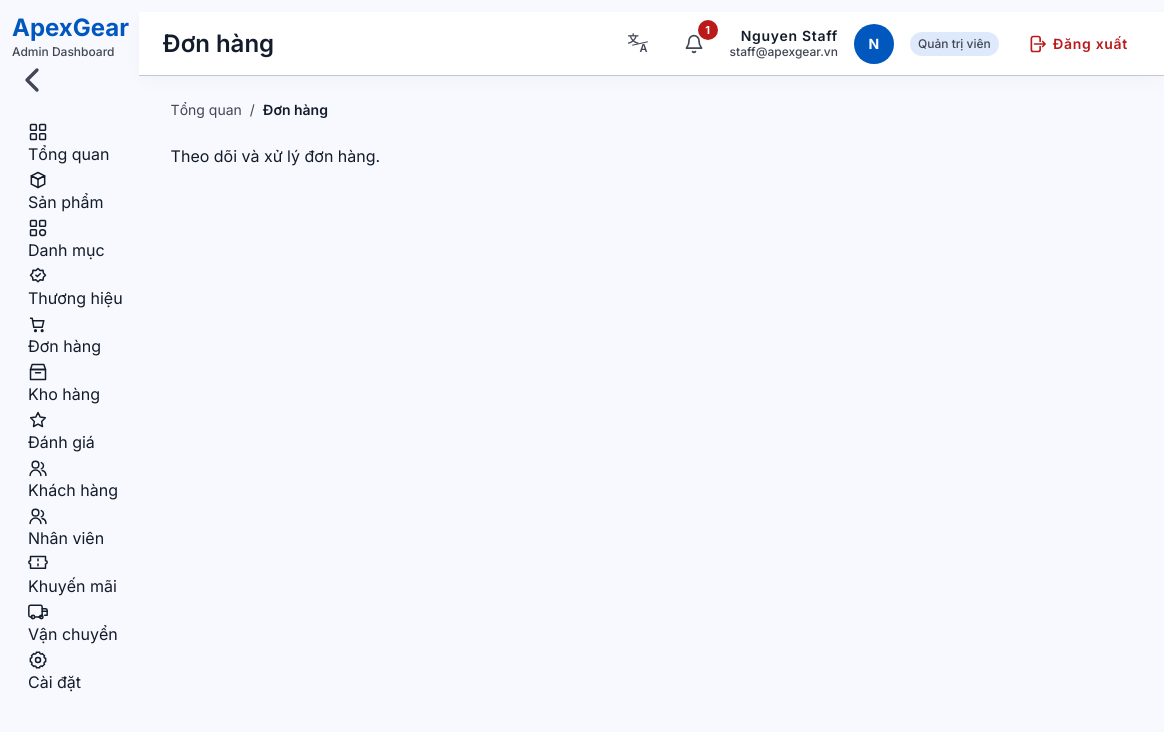
Scenario: AdminLayout › opens the language menu by click and switches languages through i18n
The image size is (1164, 732).
Click the button named "Mở trình chọn ngôn ngữ" at (638, 44), box [618,24,658,64]
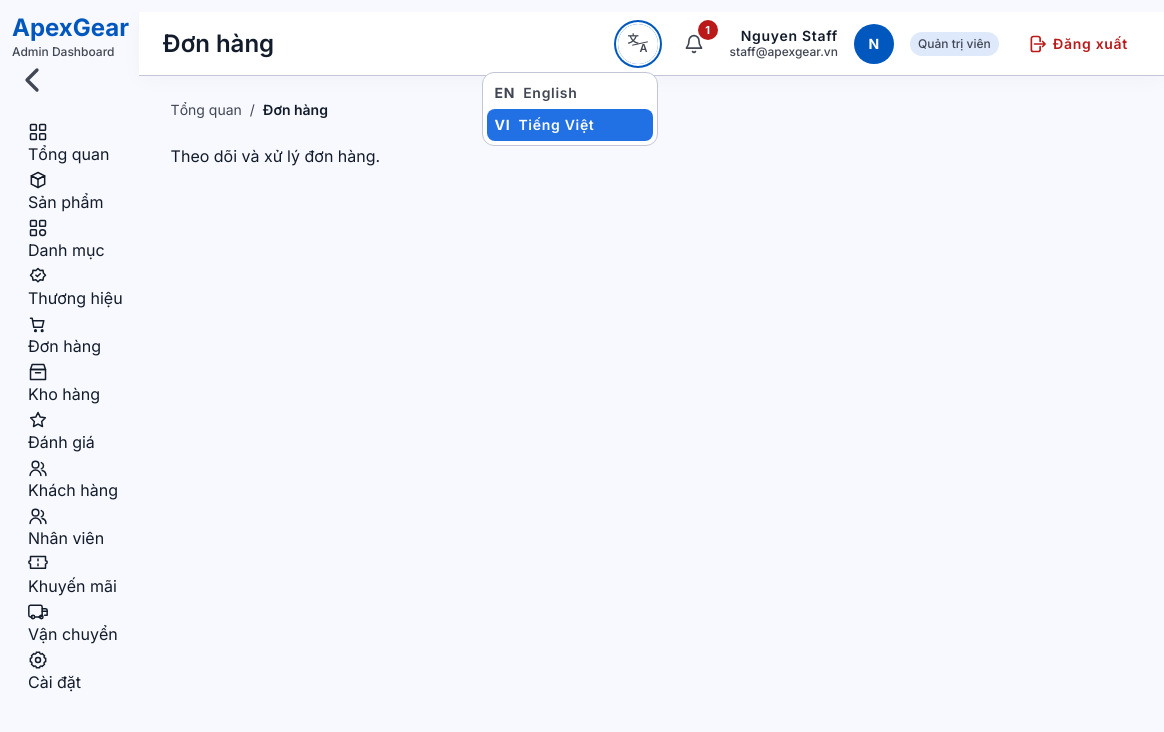
Expected: the menu item "EN English" is shown
Expected: the menu item "VI Tiếng Việt" is shown, [487,108,653,140]
Click the menu item "EN English" at (570, 92), box [487,76,653,108]
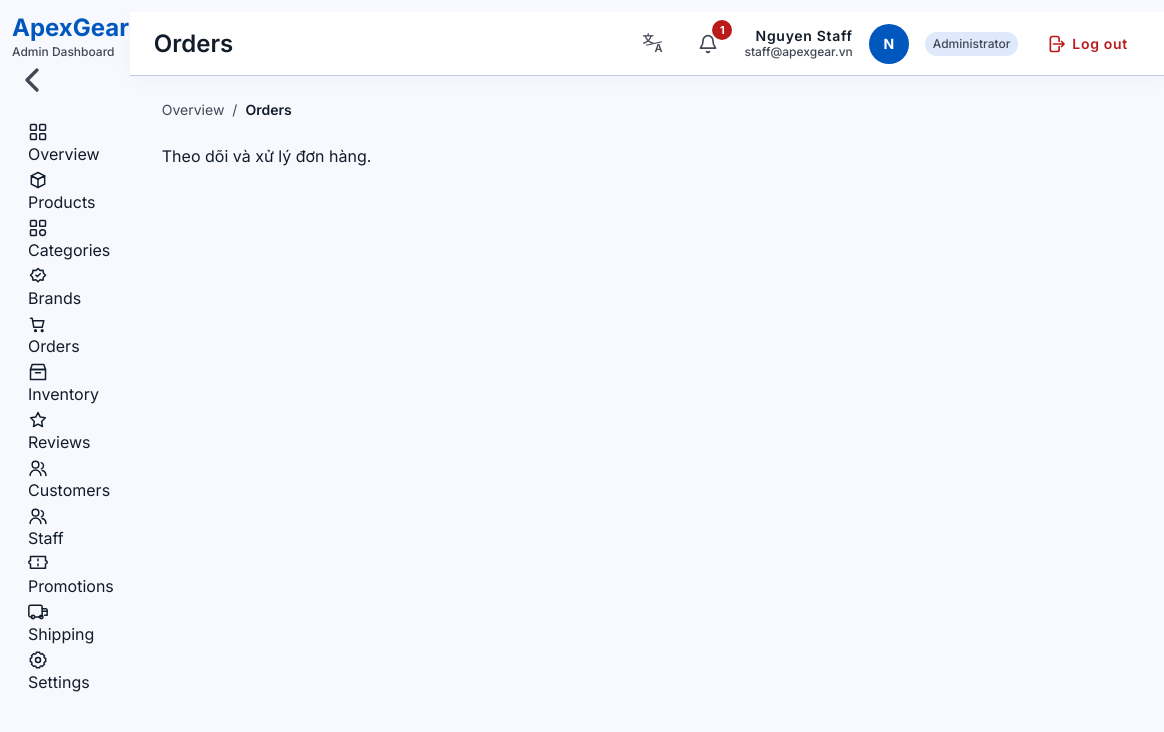
Expected: the button named "Open language menu" is shown
Click the button named "Open language menu" at (652, 44), box [632,24,672,64]
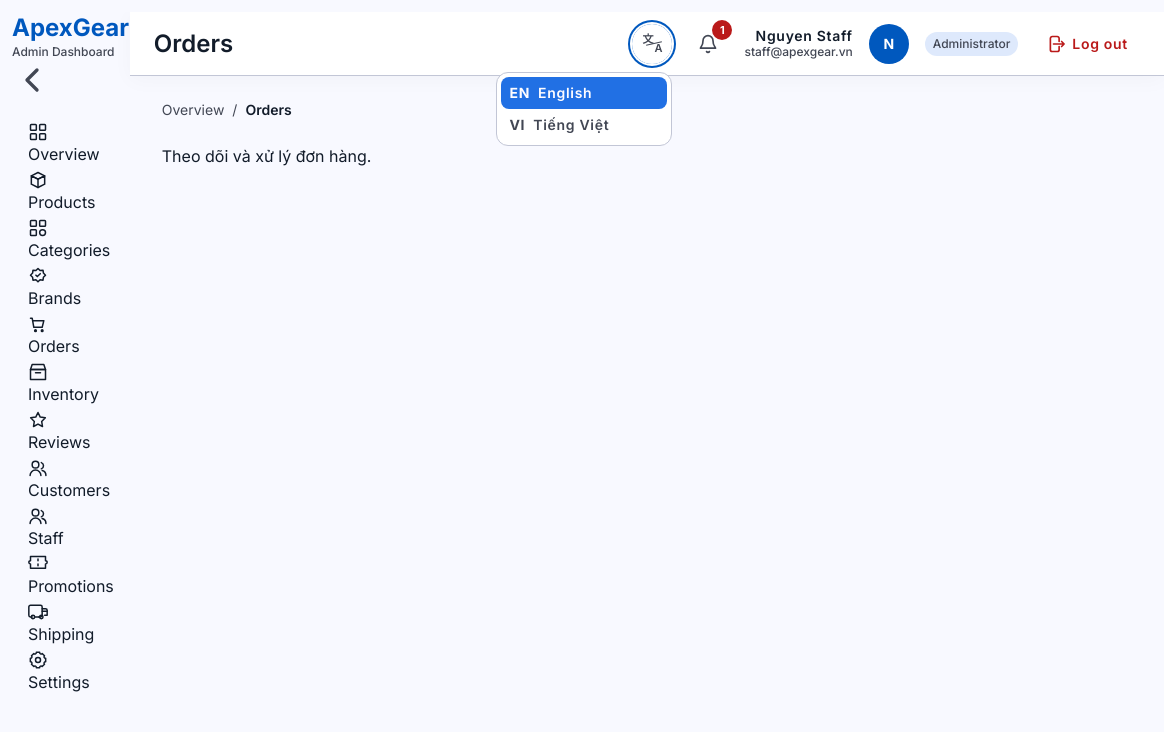
Click the menu item "VI Tiếng Việt" at (584, 124), box [501,108,667,140]
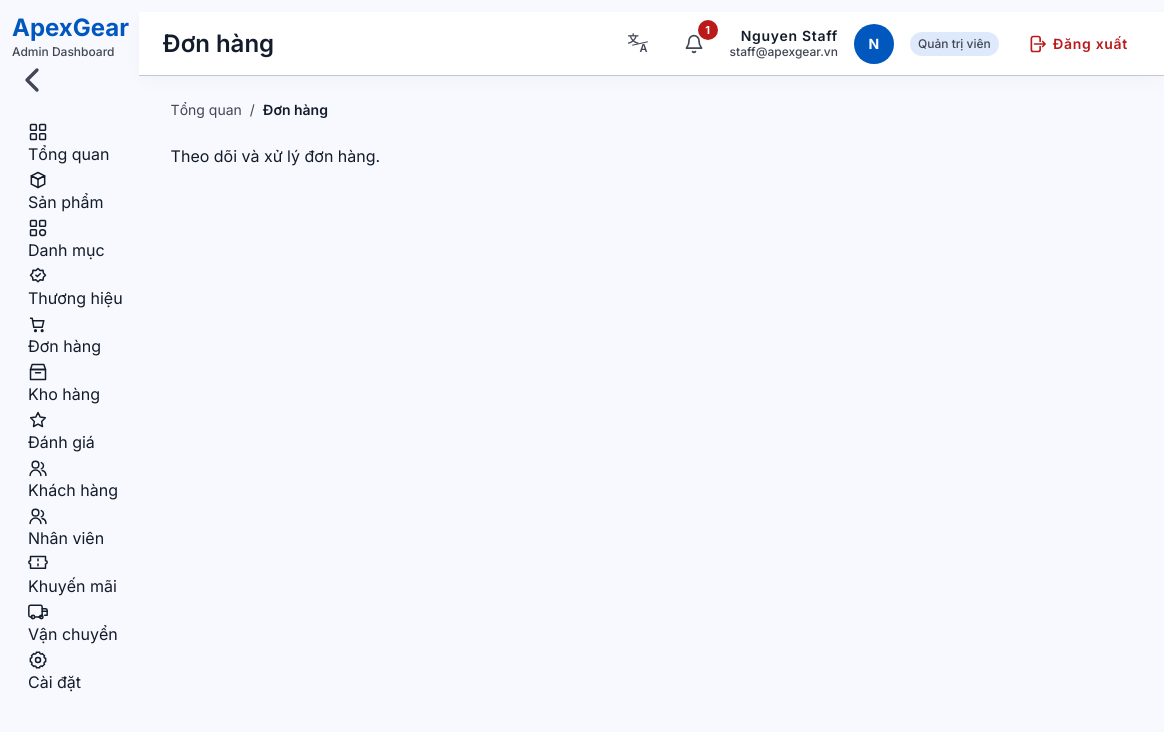
Expected: the button named "Mở trình chọn ngôn ngữ" is shown, [618,24,658,64]
